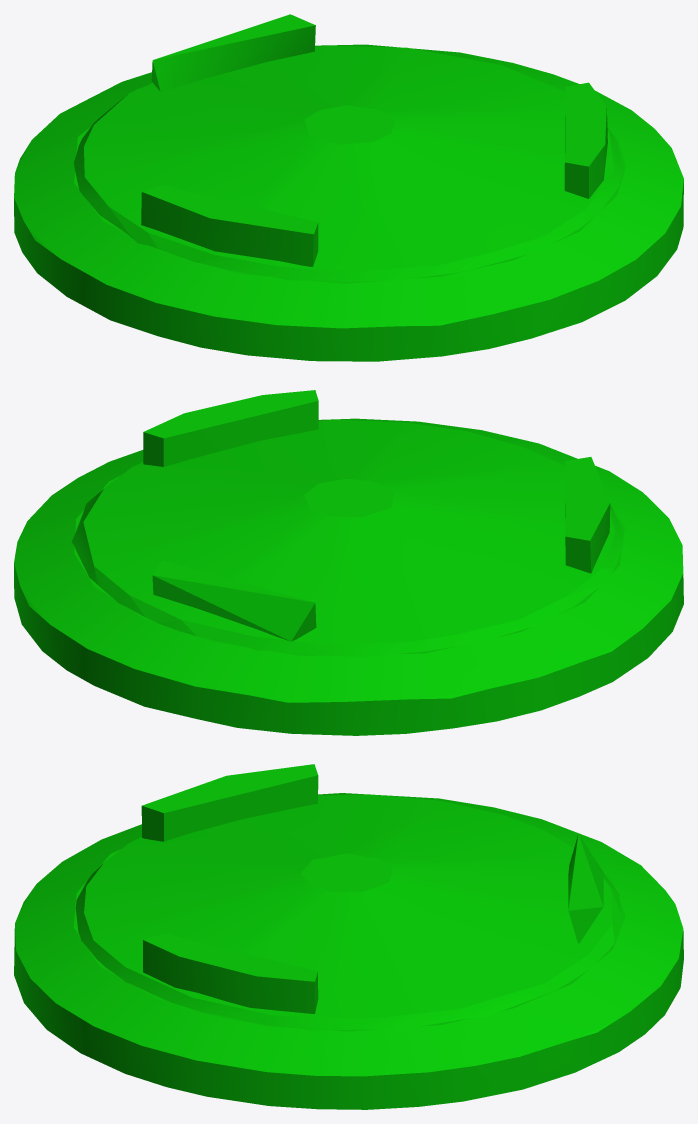
The model's file is UCX_CeilingLight1.fbx.
3 renders of one model, top to bottom at view 1: azimuth 30°, elevation 25°; view 2: azimuth 150°, elevation 25°; view 3: azimuth 270°, elevation 25°, orthographic.
Parts seen in each view (by area): view 1: UCX_CeilingLight1; view 2: UCX_CeilingLight1; view 3: UCX_CeilingLight1.
Boxes of the visible parts, x1=… form: UCX_CeilingLight1: x1=14, y1=14, x2=683, y2=361; UCX_CeilingLight1: x1=14, y1=390, x2=683, y2=735; UCX_CeilingLight1: x1=14, y1=764, x2=683, y2=1109.
Size of the model in its own units: 0.5591 by 0.1385 by 0.5595.
